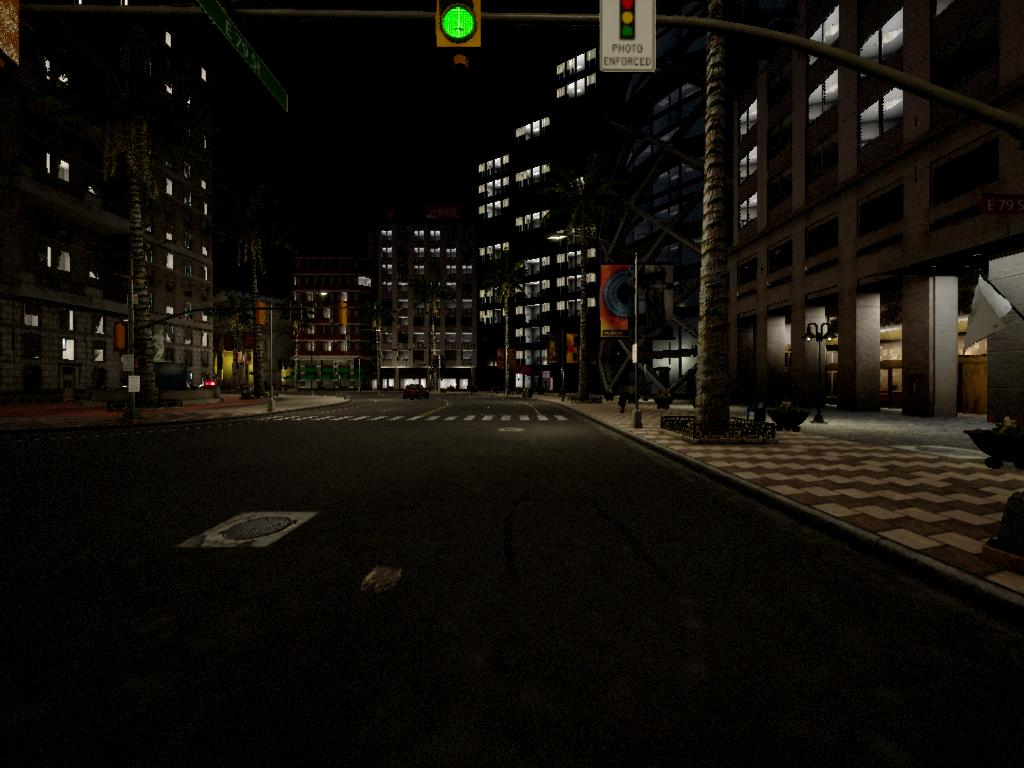traffic_light: (438, 1, 483, 44), (115, 322, 132, 355), (254, 302, 268, 328)
